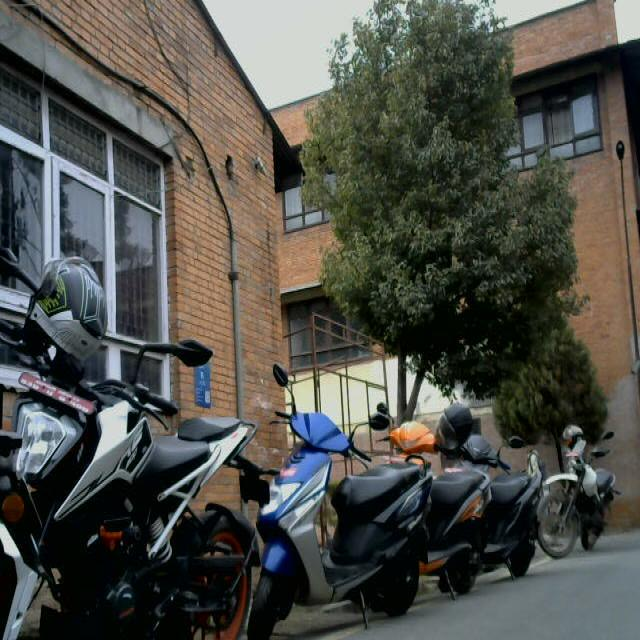Bike: (252, 362, 426, 632), (444, 395, 535, 589), (556, 416, 625, 562)
Buildings: (2, 0, 307, 373)
Parking: (3, 240, 250, 640)
trees: (316, 0, 570, 378)
